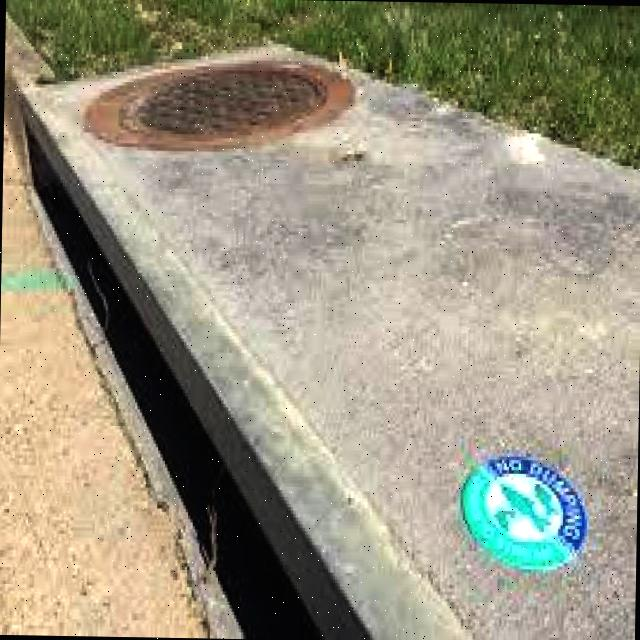curb: (4, 10, 470, 640)
